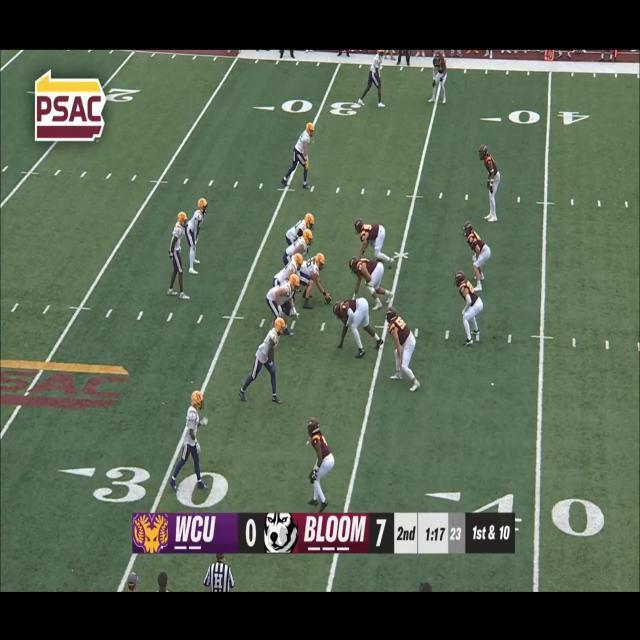football: (322, 290, 334, 306)
